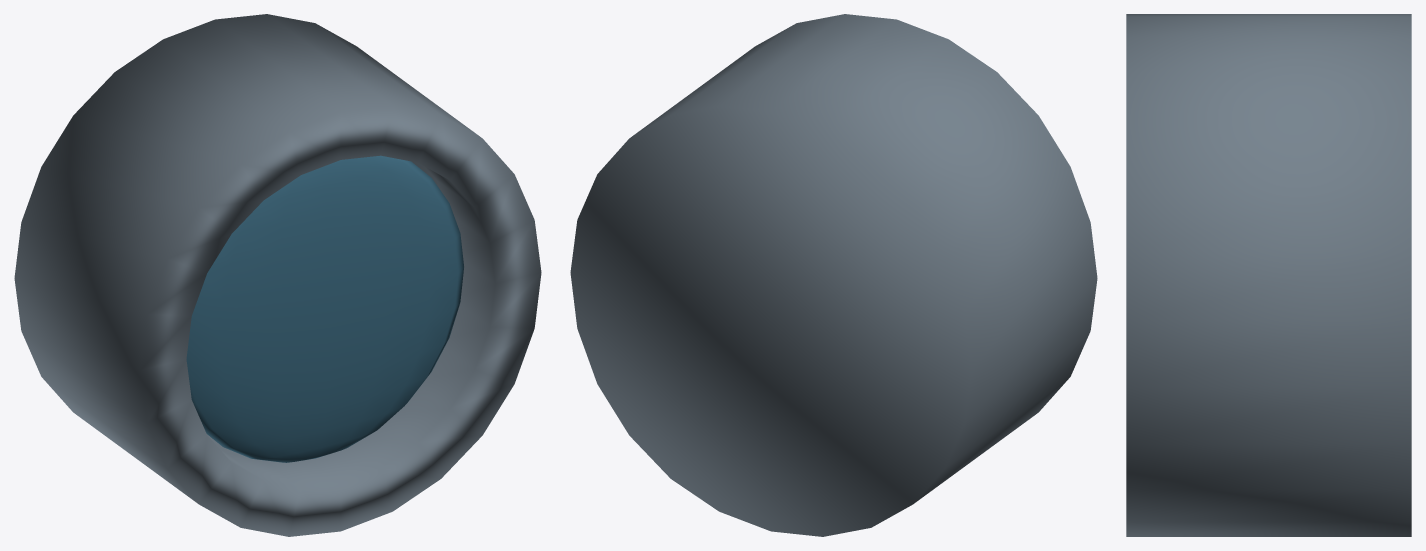
The model's file is liciacube.luke.glb.
3 views of the same model, side by side, from view 1: azimuth 30°, elevation 25°; view 2: azimuth 150°, elevation 25°; view 3: azimuth 270°, elevation 25° (orthographic). The views are drawn at different scales.
Visible parts, largest first — view 1: liciacube.luke.mesh_Machined_steel, liciacube.luke.lens.mesh_Coated_optical_glass; view 2: liciacube.luke.mesh_Machined_steel; view 3: liciacube.luke.mesh_Machined_steel.
Part boxes in pixels (x1,y1,x2,y2): liciacube.luke.mesh_Machined_steel: (14, 14, 541, 536); liciacube.luke.lens.mesh_Coated_optical_glass: (186, 155, 463, 462); liciacube.luke.mesh_Machined_steel: (570, 14, 1097, 536); liciacube.luke.mesh_Machined_steel: (1126, 14, 1411, 536).
Bounding box in the file's own units: 0.046 × 0.046 × 0.025.
